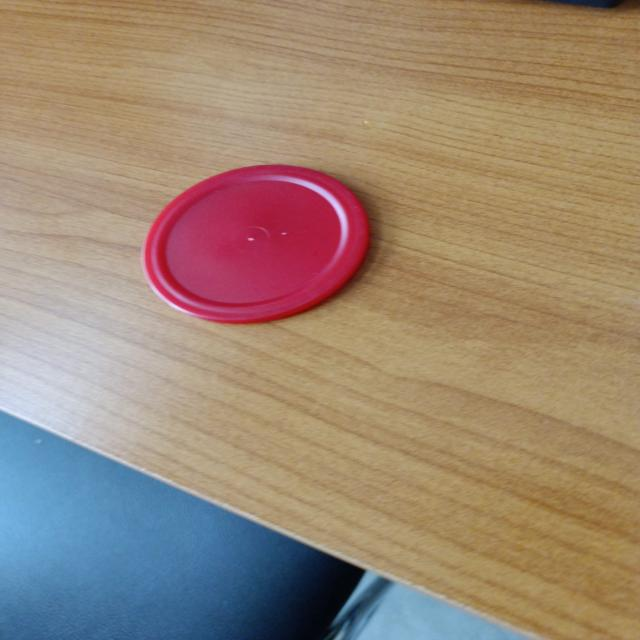chip: (146, 160, 376, 322)
